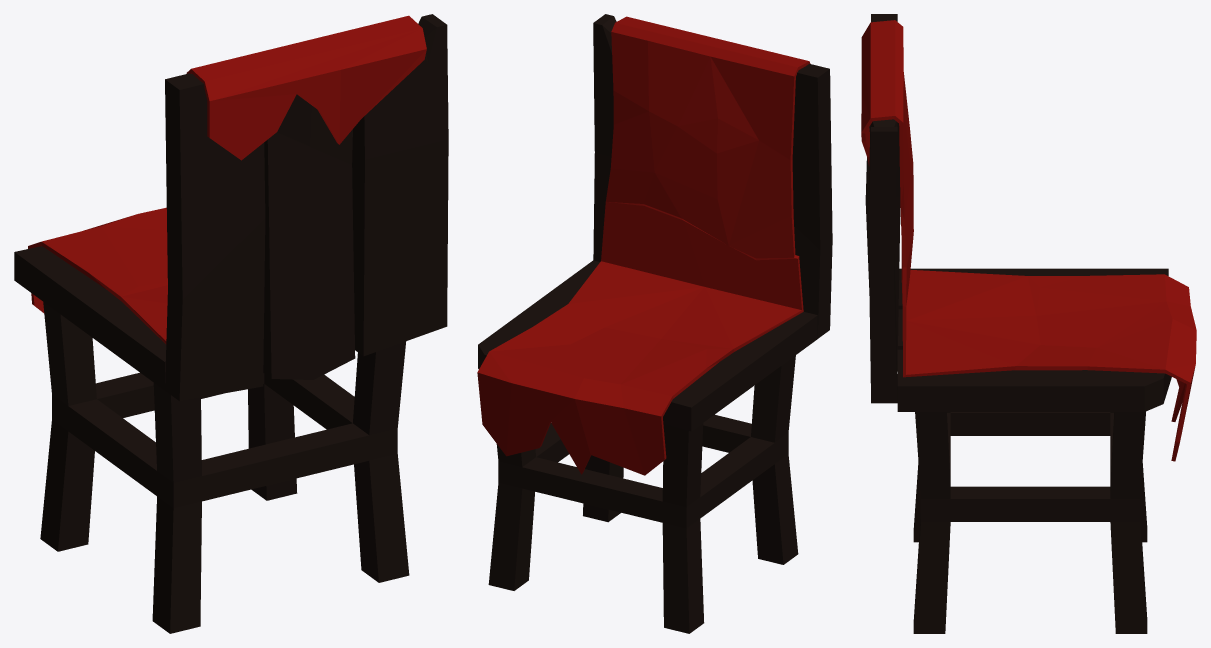
File: chair_cloth.obj
The picture shows the model from 3 angles, left to right: view 1: azimuth 30°, elevation 25°; view 2: azimuth 150°, elevation 25°; view 3: azimuth 270°, elevation 25°; orthographic projection. The views are drawn at different scales.
Visible parts, largest first — view 1: chair_cloth_Cube.034_redWood, chair_cloth_Cube.034_clothRed; view 2: chair_cloth_Cube.034_clothRed, chair_cloth_Cube.034_redWood; view 3: chair_cloth_Cube.034_redWood, chair_cloth_Cube.034_clothRed.
Part boxes in pixels (<box>): chair_cloth_Cube.034_redWood: <box>14,14,448,633</box>; chair_cloth_Cube.034_clothRed: <box>28,15,426,344</box>; chair_cloth_Cube.034_clothRed: <box>477,16,810,475</box>; chair_cloth_Cube.034_redWood: <box>478,14,832,633</box>; chair_cloth_Cube.034_redWood: <box>865,14,1171,633</box>; chair_cloth_Cube.034_clothRed: <box>861,20,1196,461</box>.
Bounding box in the file's own units: 0.6914 × 1.41 × 0.8336.
